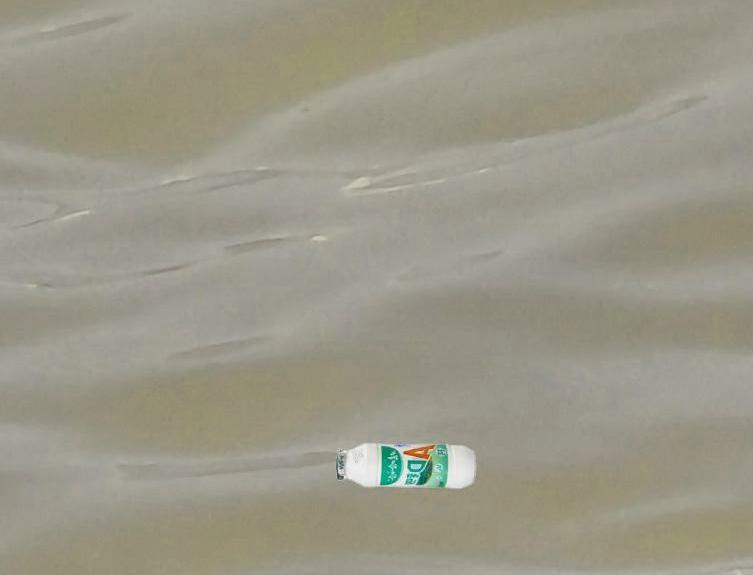Plastic: (334, 432, 480, 498)
